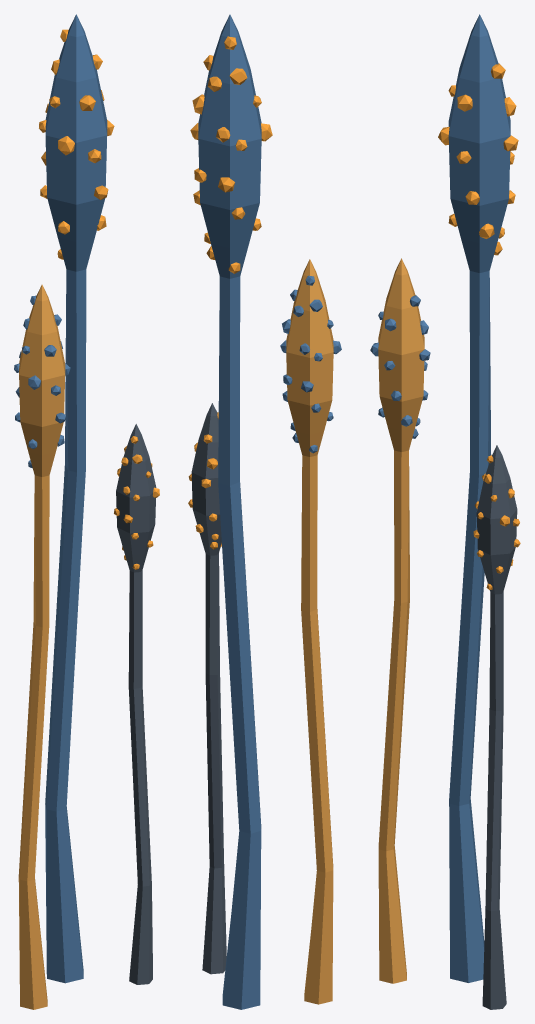
The model's file is AW_Plant02.fbx.
3 renders of one model, left to right at view 1: azimuth 30°, elevation 25°; view 2: azimuth 150°, elevation 25°; view 3: azimuth 330°, elevation 25°, orthographic. The views are drawn at different scales.
Parts seen in each view (by area): view 1: AW_Plant02; view 2: AW_Plant02; view 3: AW_Plant02.
Part boxes in pixels (x1,y1,x2,y2): AW_Plant02: (14,14,159,1009); AW_Plant02: (188,14,341,1009); AW_Plant02: (370,14,520,1009).
Size of the model in its own units: 15.81 by 105 by 11.19.
1 material, 1 textured.
